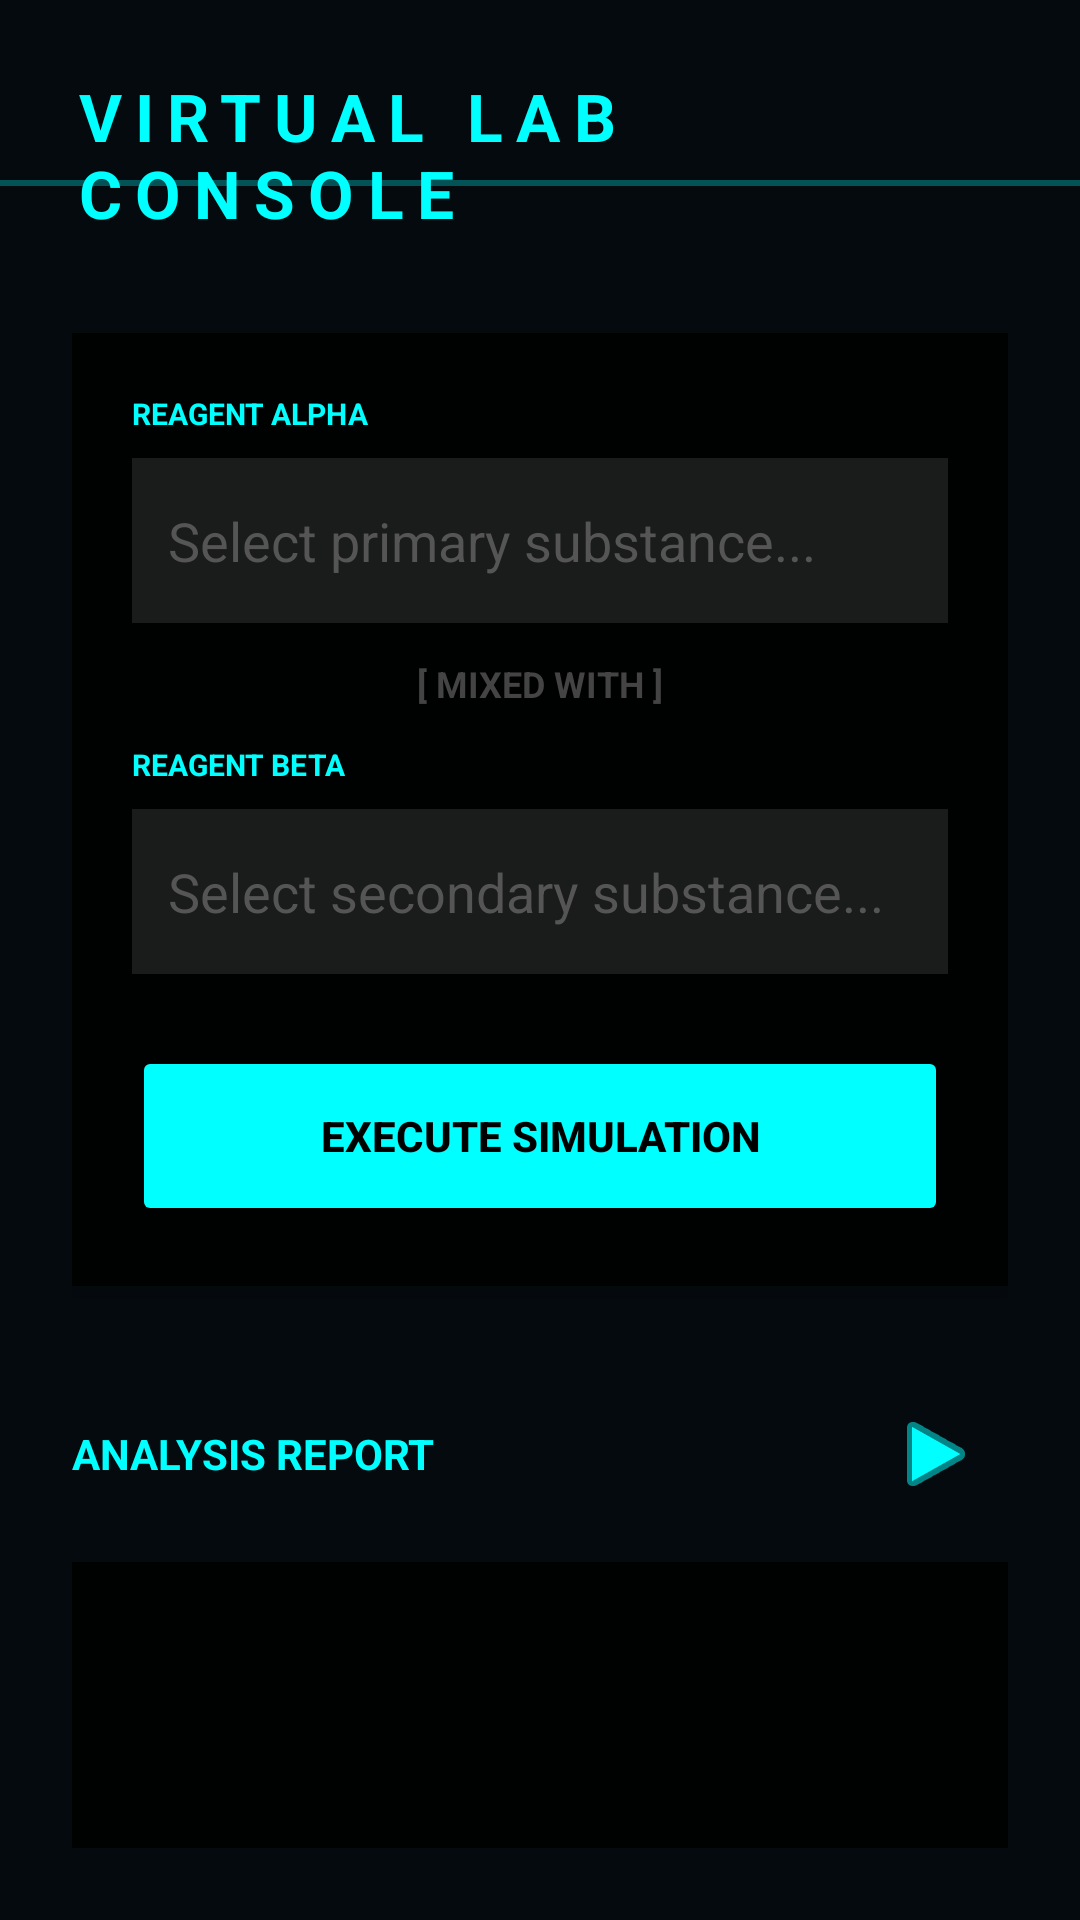

Icons on this 1080w x 1920h Android screen, each with its box as {"x1": x1, "y1": y1, "x2": x2, "y2": y2}:
play: {"x1": 907, "y1": 1422, "x2": 965, "y2": 1486}
